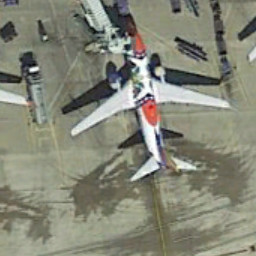Airplane: (51, 14, 235, 190)
